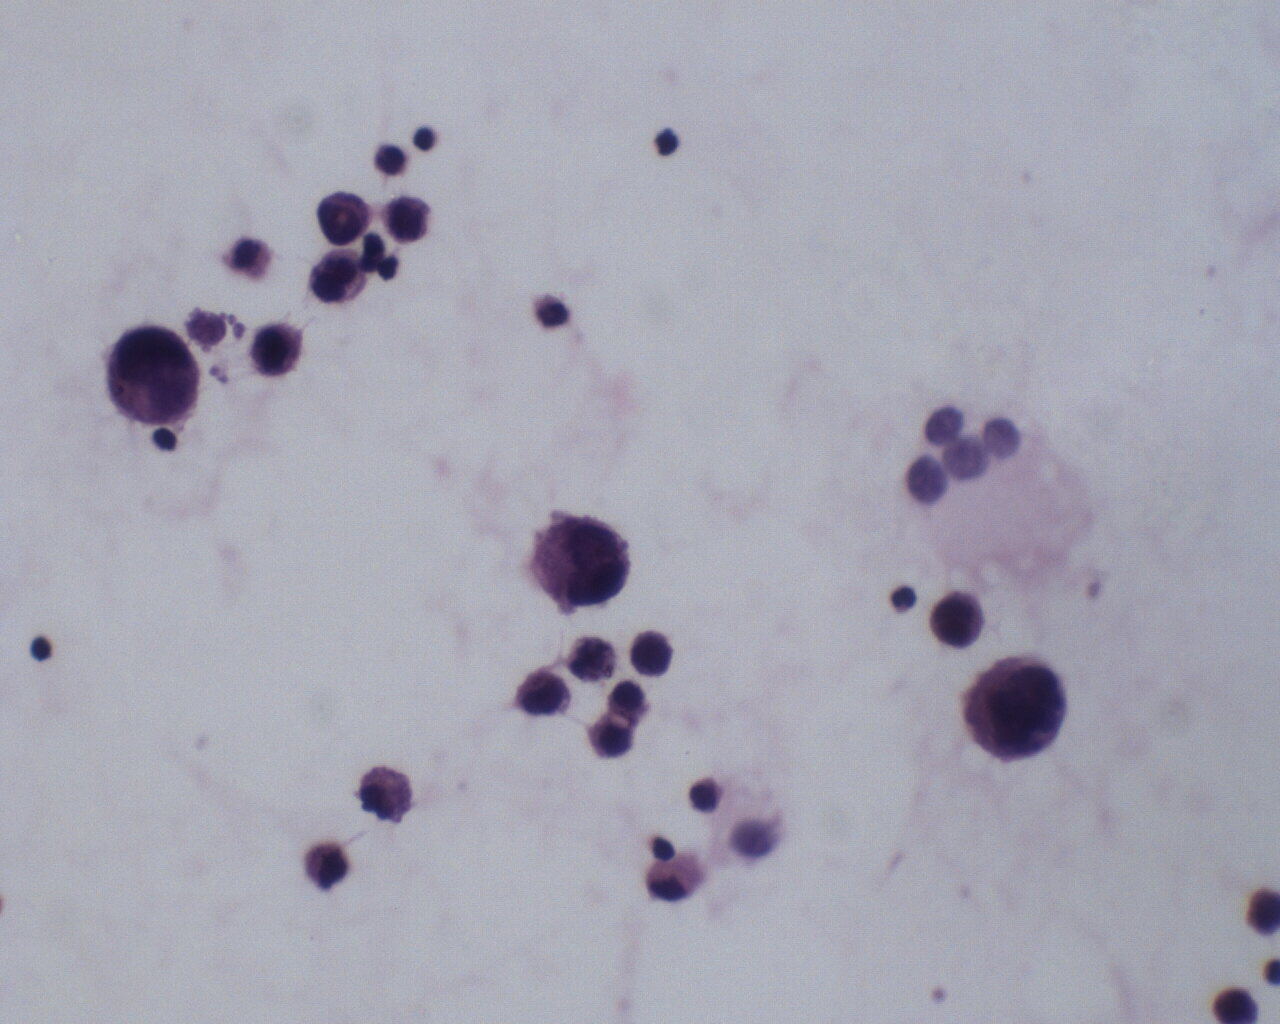ab: (958, 648, 1073, 769), (523, 506, 633, 616), (103, 322, 207, 429), (927, 584, 990, 654), (311, 187, 374, 249), (246, 322, 305, 382), (308, 248, 368, 306), (513, 664, 574, 720), (380, 191, 438, 243)
